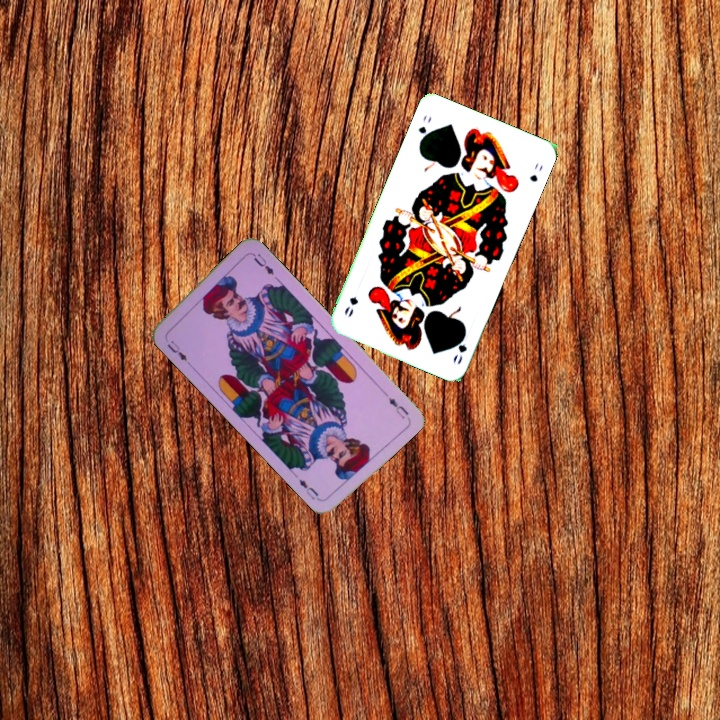EU: (163, 336, 190, 364), (384, 393, 411, 421)
GO: (449, 327, 470, 367), (414, 111, 434, 147)
